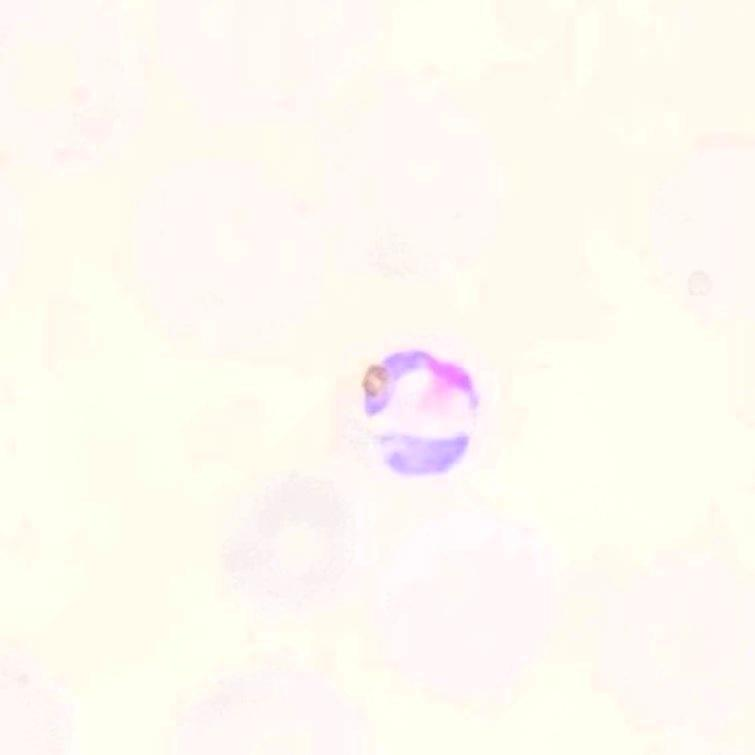Infected: (351, 336, 505, 498)
Uninfected: (376, 516, 571, 713), (586, 506, 755, 733), (153, 647, 386, 755)
